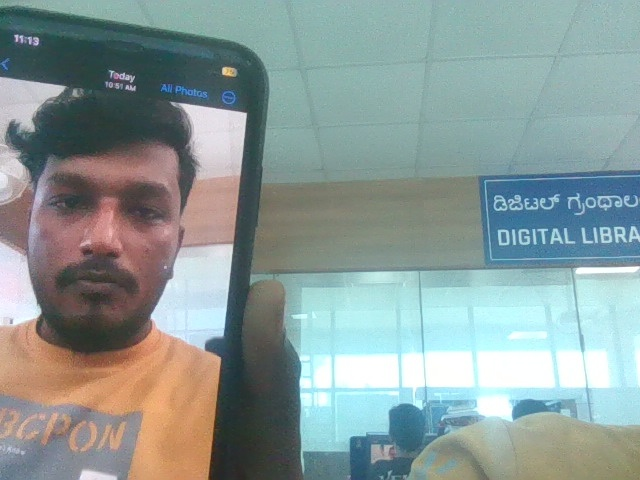fake: (5, 56, 217, 356)
